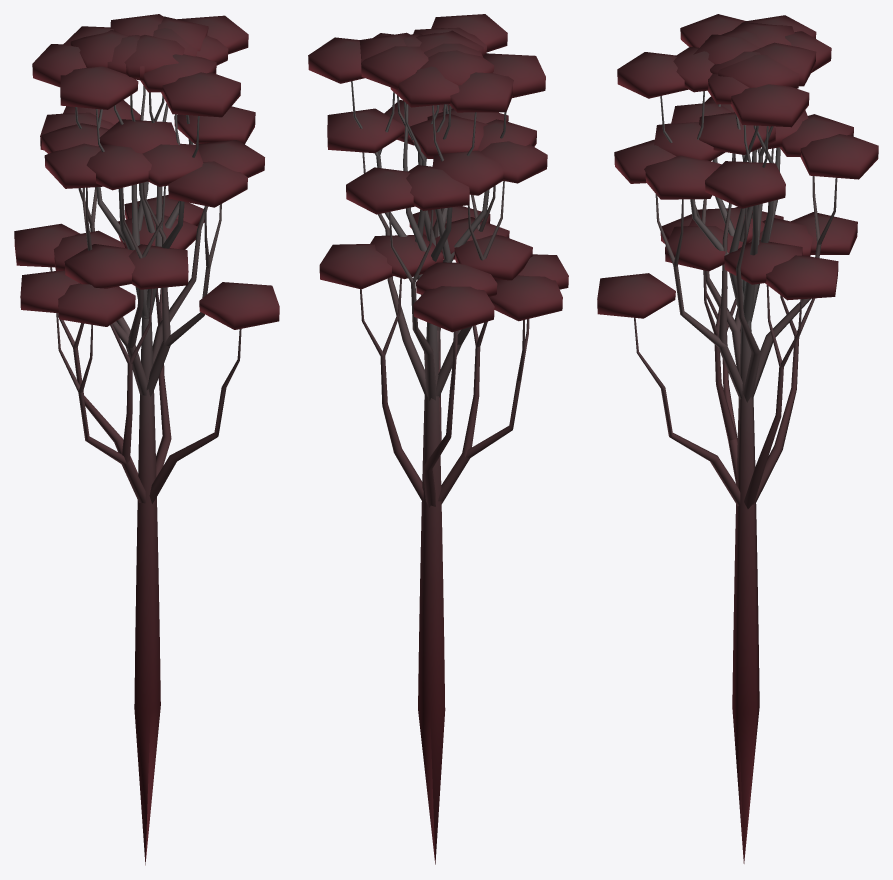
The model's file is plants-trees-palms-tiered-red-tree_v2.fbx.
The picture shows the model from 3 angles, left to right: view 1: azimuth 30°, elevation 25°; view 2: azimuth 150°, elevation 25°; view 3: azimuth 270°, elevation 25°; orthographic projection.
Parts seen in each view (by area): view 1: Tiered Red Tree_v2; view 2: Tiered Red Tree_v2; view 3: Tiered Red Tree_v2.
Part boxes in pixels (bbox=[...]): Tiered Red Tree_v2: bbox=[14, 14, 279, 865]; Tiered Red Tree_v2: bbox=[308, 14, 568, 864]; Tiered Red Tree_v2: bbox=[597, 14, 878, 863].
Size of the model in its own units: 1.78 by 6 by 1.85.
